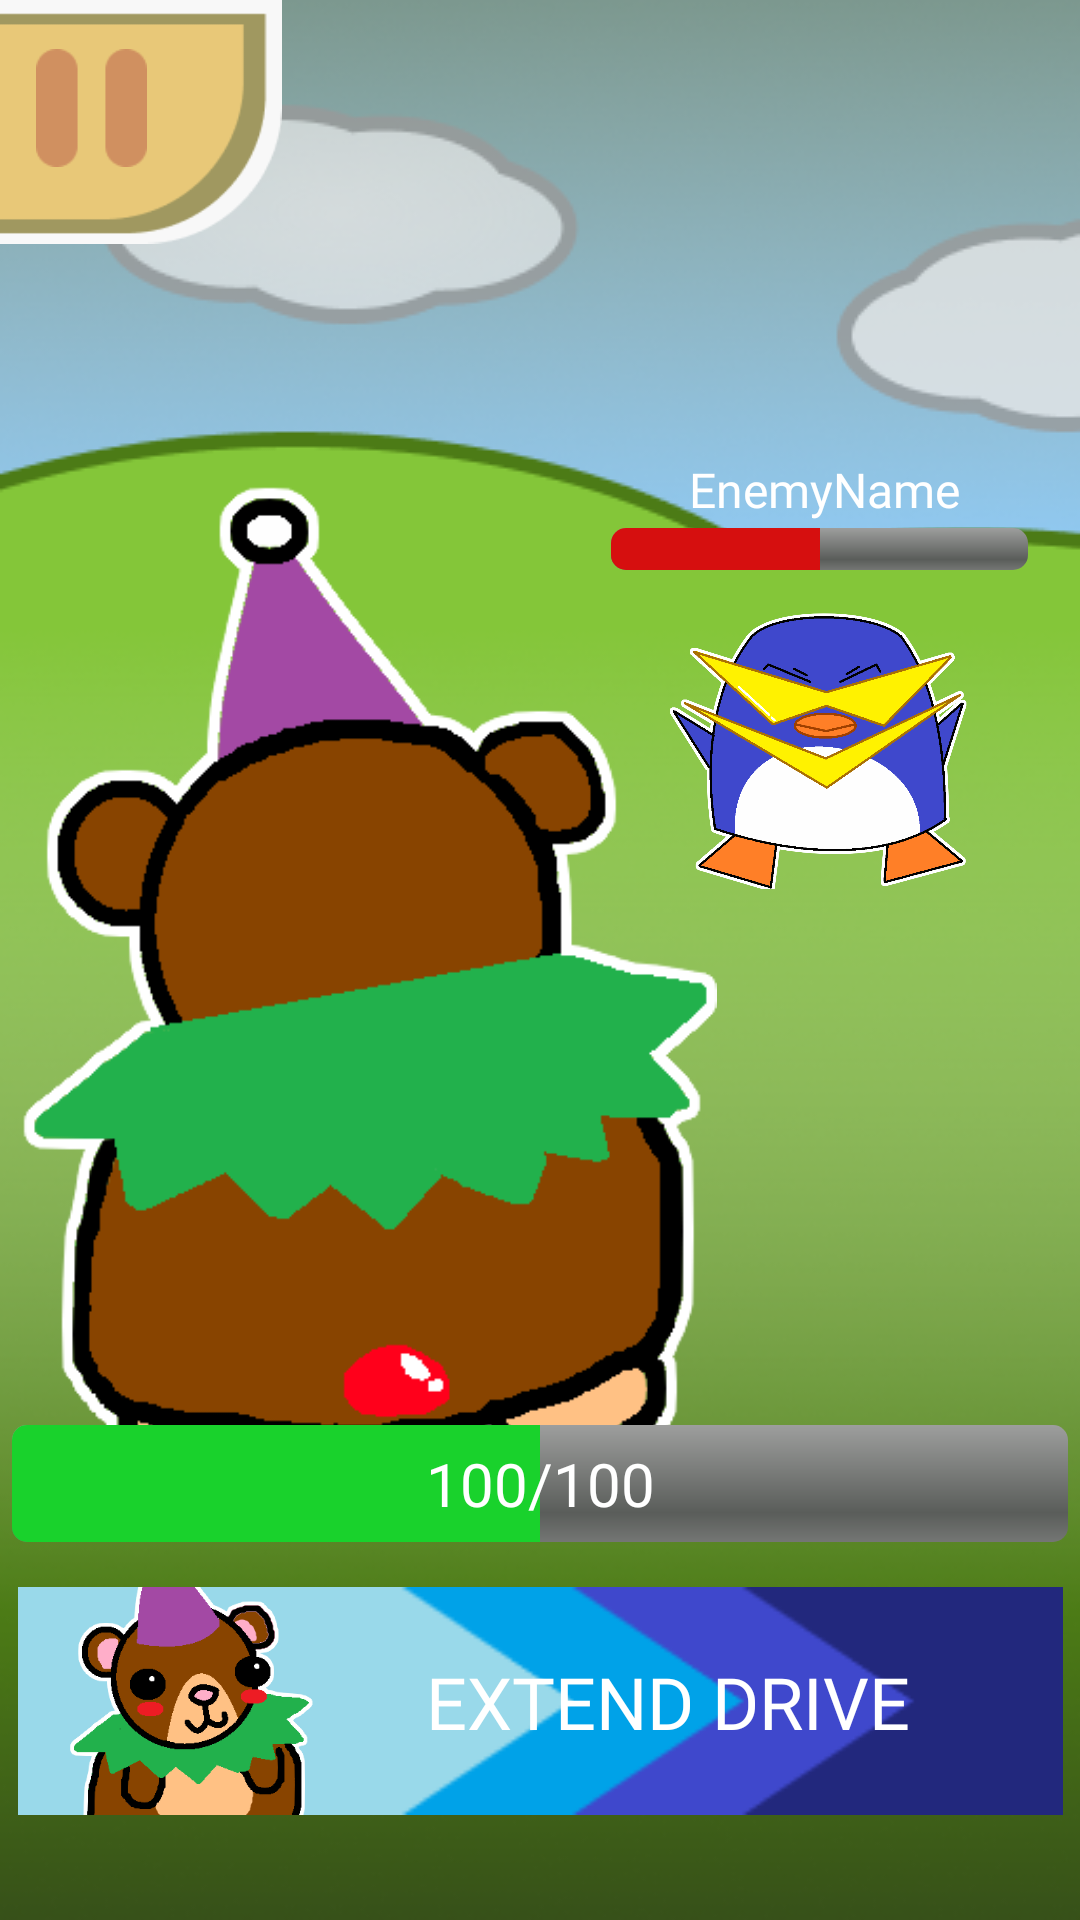

Where to tap for icons on this 1080px×1920px app screen, as (x=x, y=y):
penguranger: (x=819, y=756)
